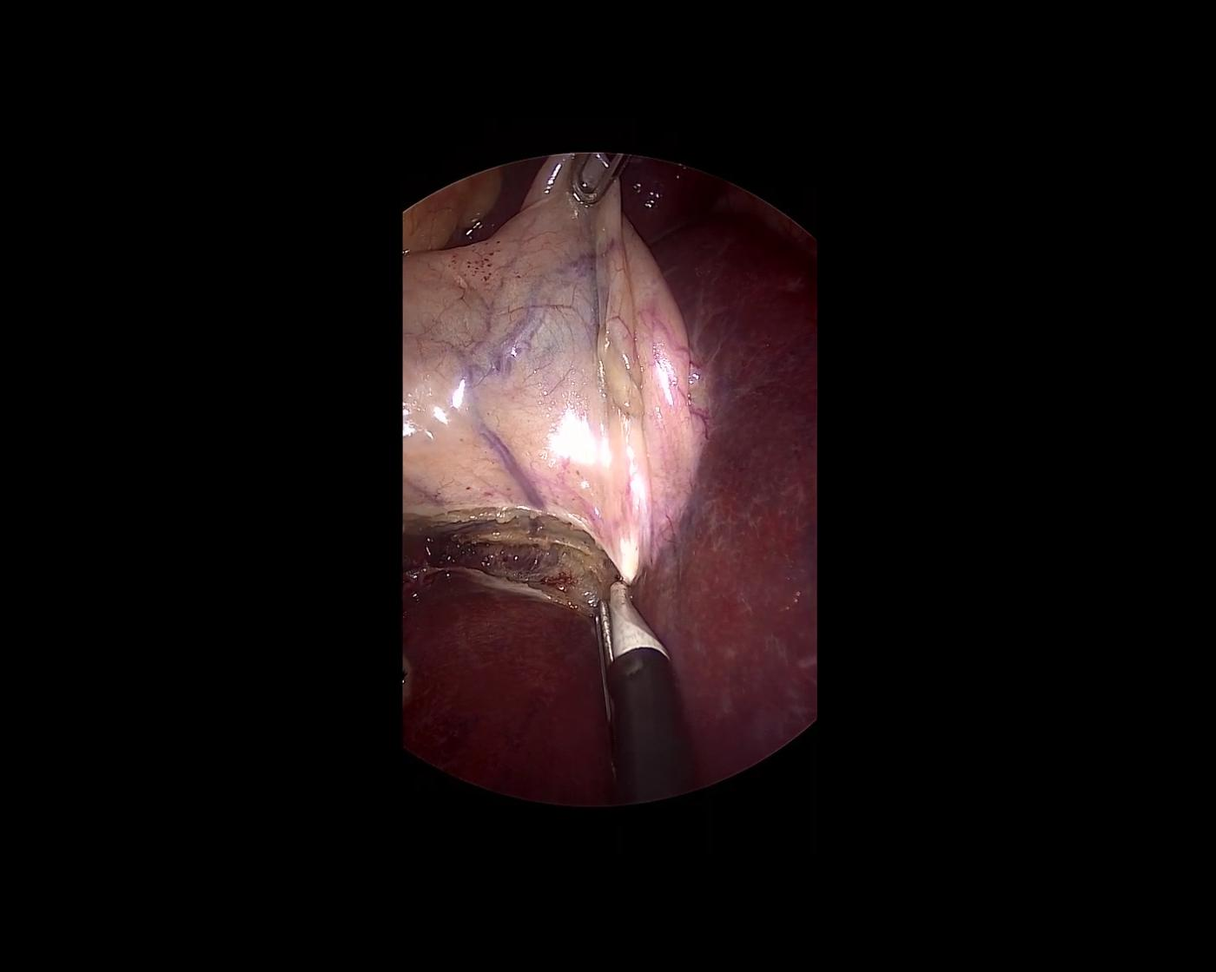Cautery: (591, 578, 685, 805)
Forceps: (568, 151, 630, 209)
Gallbladder: (400, 152, 705, 584)
Liver: (402, 155, 817, 806)
